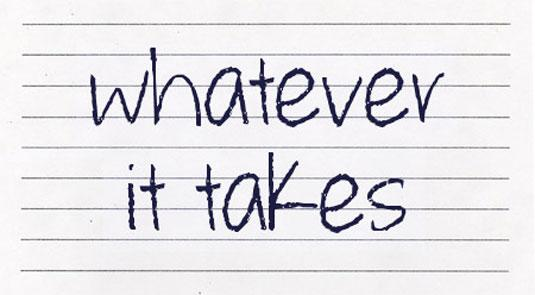text: (85, 46, 447, 130), (124, 150, 408, 238)
